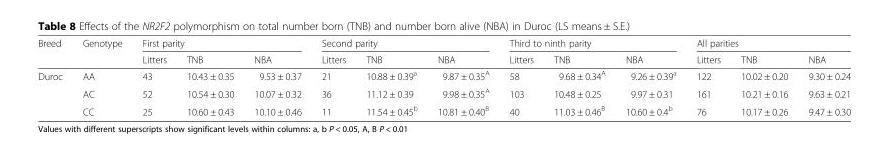table: (37, 36, 850, 116)
table column: (426, 36, 498, 116), (355, 36, 426, 116), (543, 36, 614, 116), (614, 36, 685, 116), (176, 36, 243, 116), (243, 36, 310, 116), (730, 36, 797, 116), (71, 36, 131, 116), (797, 36, 850, 116), (131, 36, 176, 116), (310, 36, 355, 116), (498, 36, 543, 116), (685, 36, 730, 116), (37, 36, 71, 116)
table column header: (37, 36, 850, 66)
table row: (37, 83, 850, 101), (37, 66, 850, 83), (37, 50, 850, 66), (37, 101, 850, 116), (37, 36, 850, 50)
table spanning cell: (310, 36, 498, 50), (498, 36, 685, 50), (131, 36, 310, 50), (685, 36, 850, 50), (71, 36, 131, 66), (37, 66, 71, 116), (37, 36, 71, 66)
